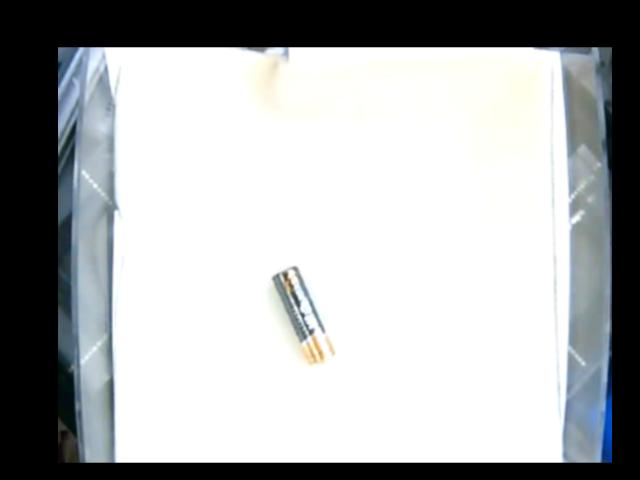Battery: (271, 265, 335, 364)
